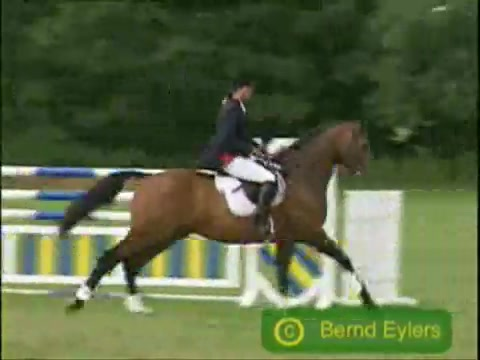horse: (58, 119, 382, 316)
